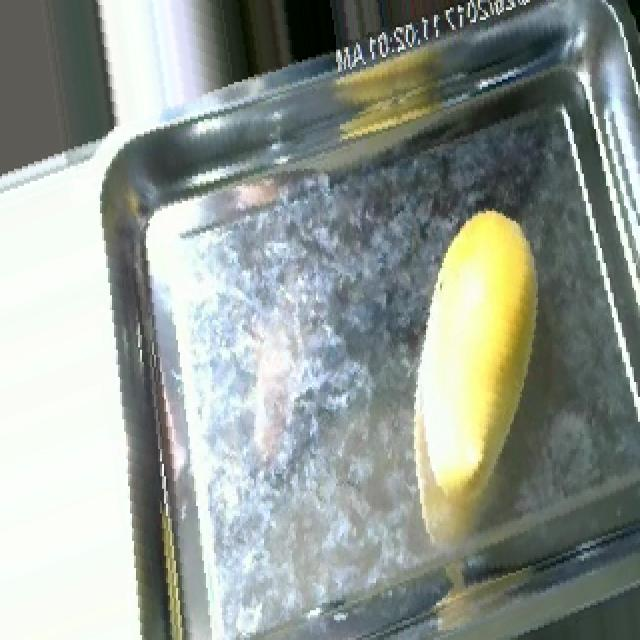fruit: (364, 184, 602, 524)
